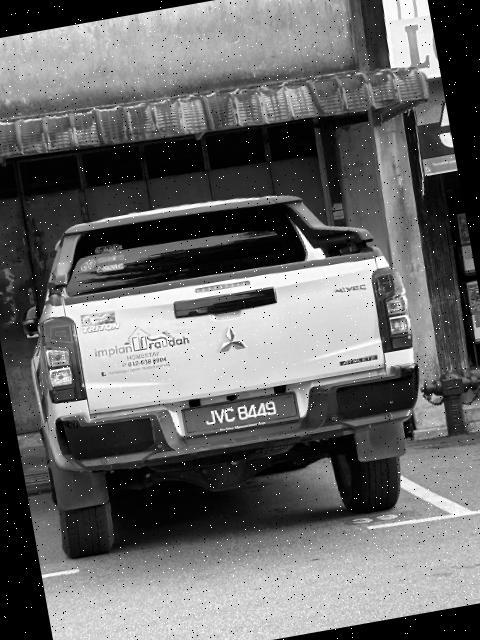License_Plate: (180, 389, 305, 440)
car: (1, 164, 442, 573)
jvc8449: (180, 389, 305, 440)
